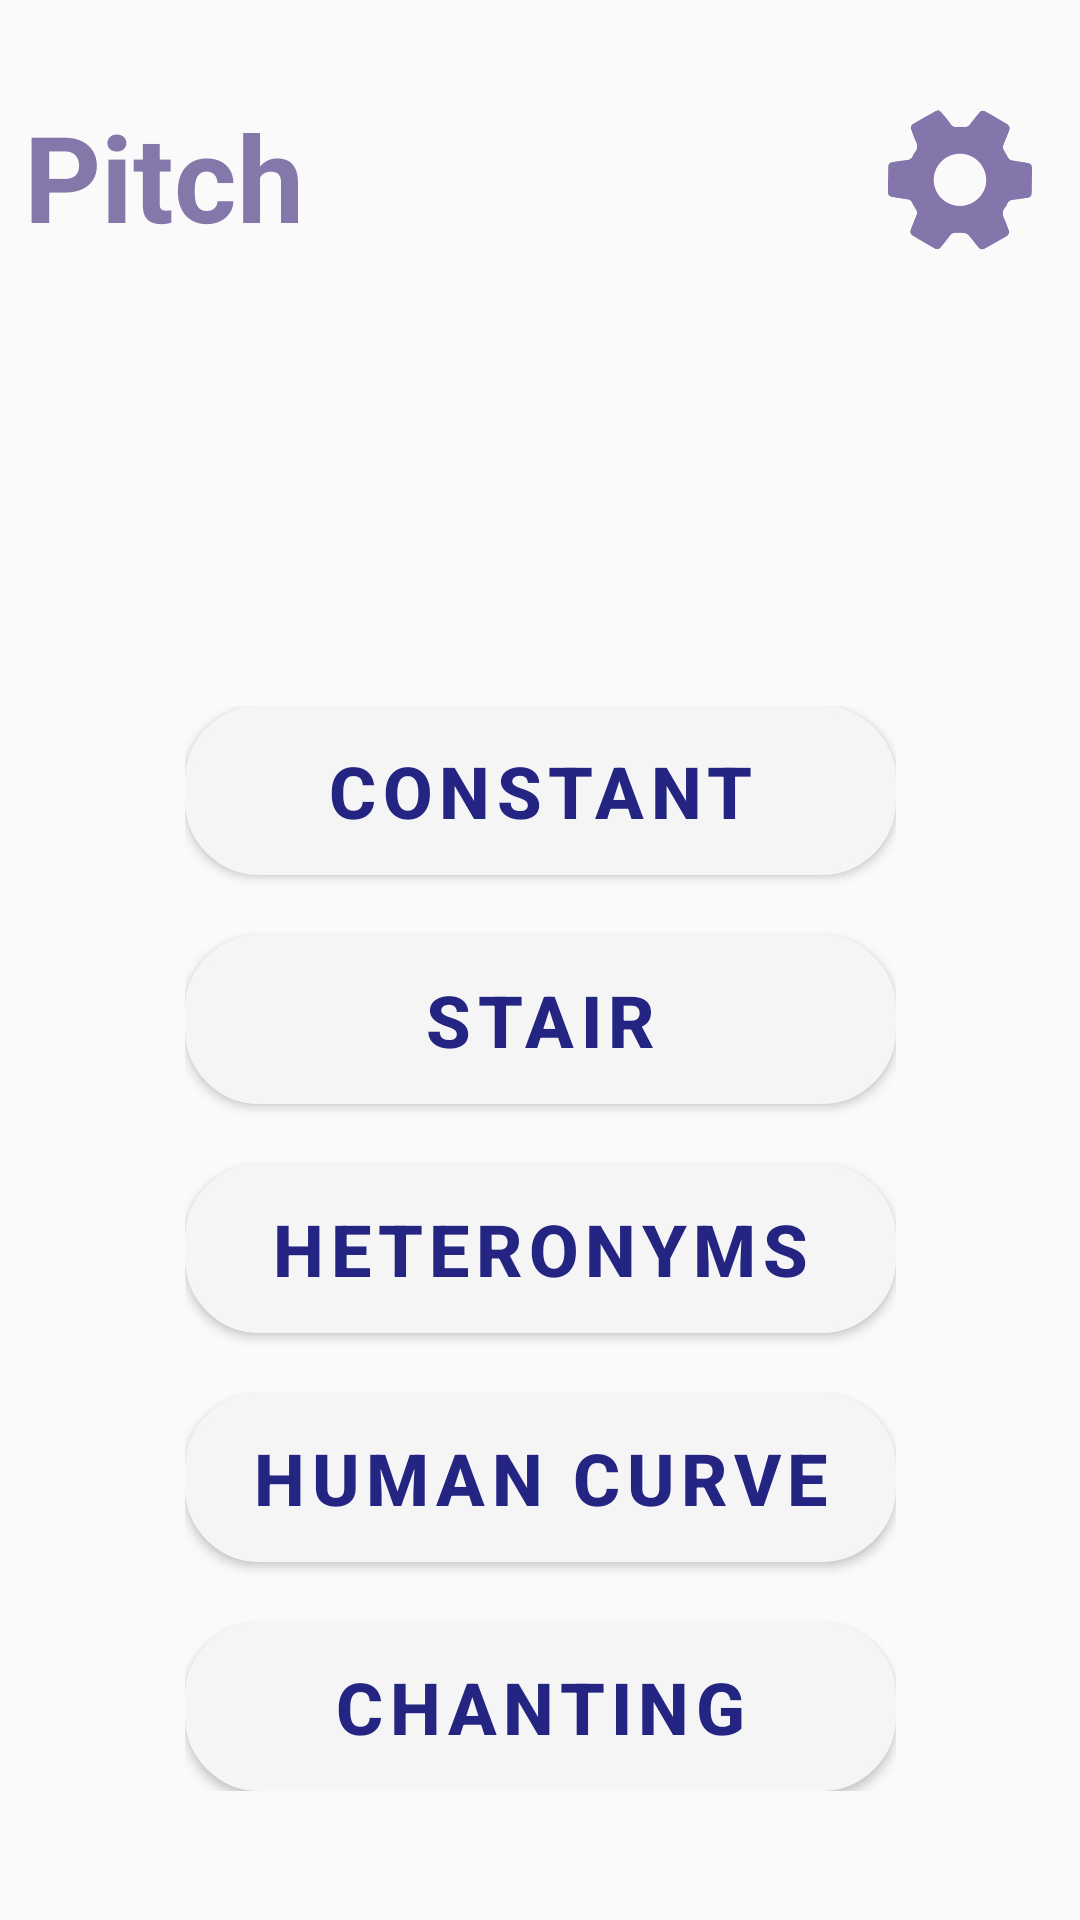

Icon bounding boxes for this 1080*1920 phone screenshot, format [x1,y1,x2,y2]:
The Settings Button: [888,110,1032,250]
